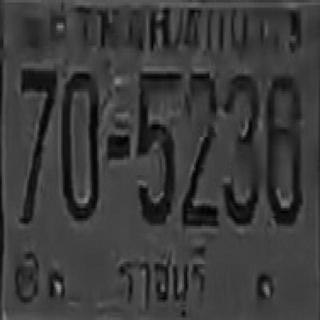N00: (60, 69, 100, 218)
N02: (182, 71, 218, 221), (183, 71, 217, 208)
N03: (222, 71, 260, 224)
N05: (136, 68, 180, 224)
N06: (264, 72, 301, 225)
N07: (19, 67, 56, 220), (20, 66, 56, 175), (20, 66, 56, 162)
P52: (109, 242, 211, 319)
